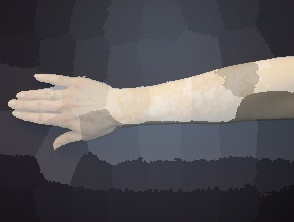vitiligo: (4, 54, 294, 158)
